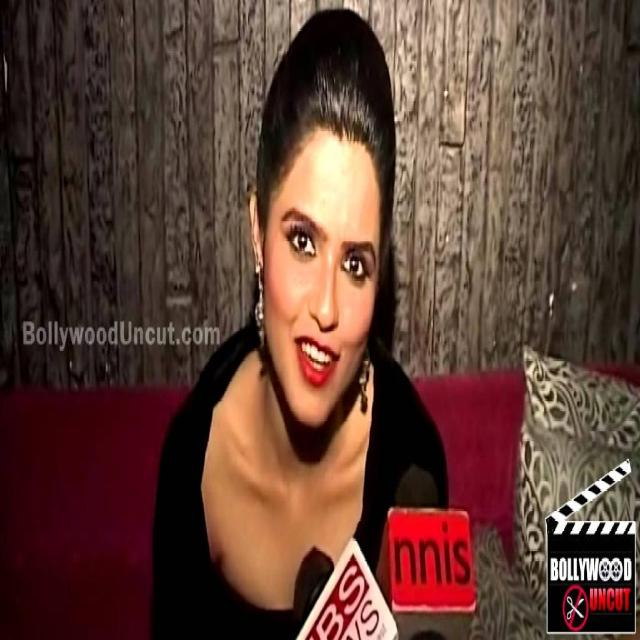Face: (272, 138, 378, 424)
